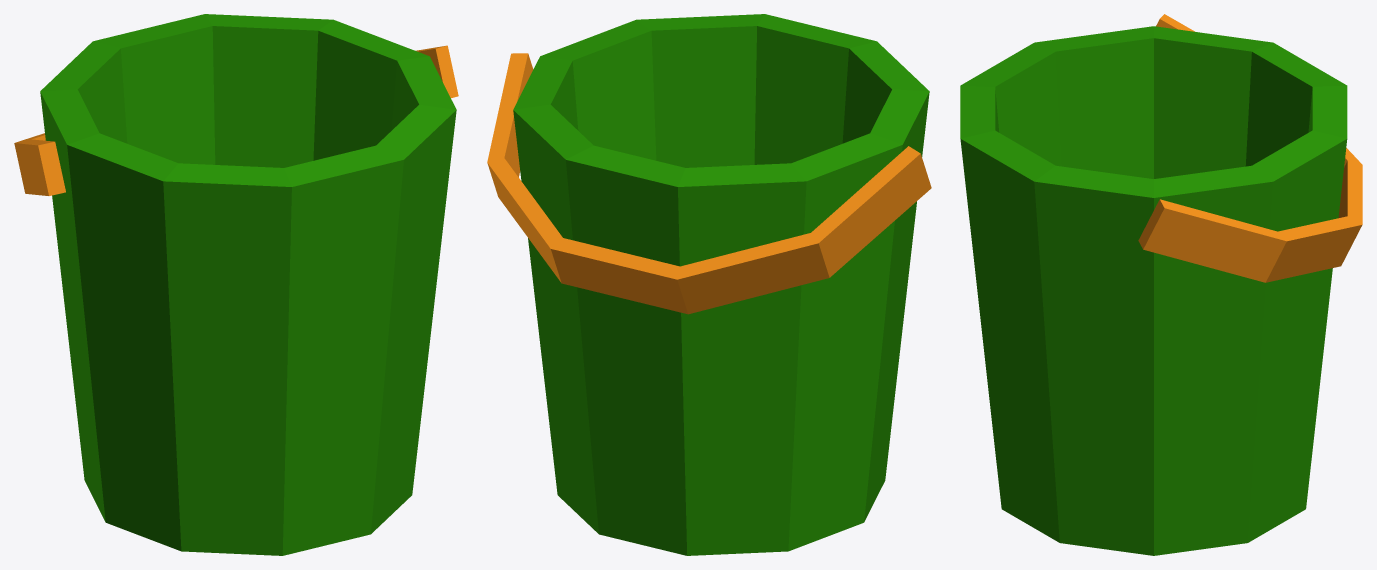
File: Bucket_01.FBX
3 views of the same model, side by side, from view 1: azimuth 30°, elevation 25°; view 2: azimuth 150°, elevation 25°; view 3: azimuth 270°, elevation 25° (orthographic). The views are drawn at different scales.
Visible parts, largest first — view 1: Bucket_01; view 2: Bucket_01; view 3: Bucket_01.
Part boxes in pixels (left/top/right/bottom): Bucket_01: left=14, top=14, right=458, bottom=555; Bucket_01: left=487, top=14, right=931, bottom=555; Bucket_01: left=960, top=14, right=1362, bottom=555.
Size of the model in its own units: 36.76 by 33.52 by 32.17.
